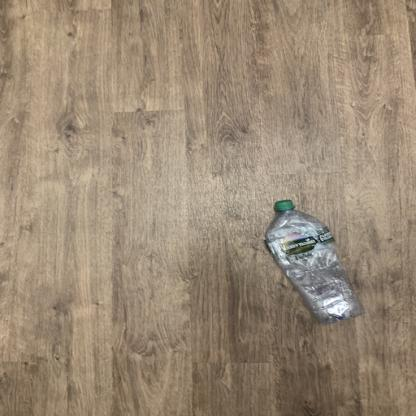trash: (264, 200, 367, 328)
